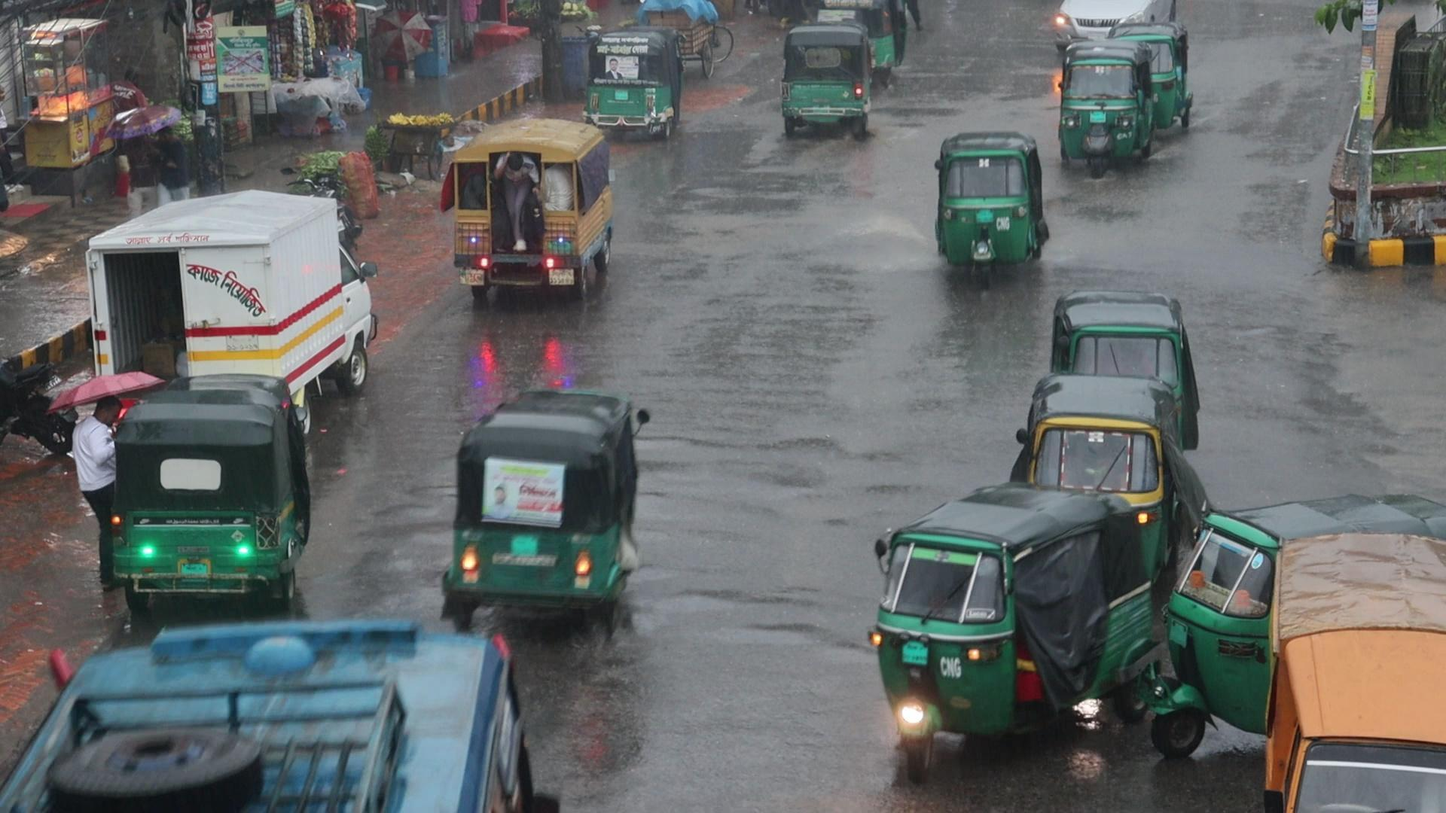Truck: (450, 116, 615, 295)
